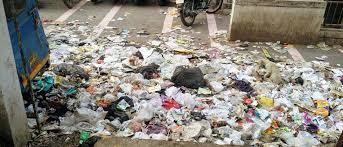garbage: (100, 62, 343, 136), (50, 35, 215, 136)
